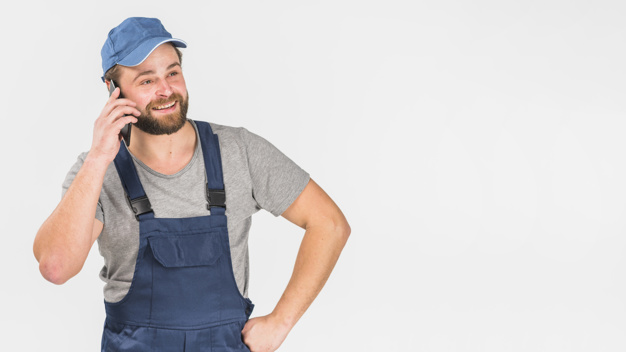phone: (102, 78, 140, 142)
talk: (85, 60, 190, 168)
